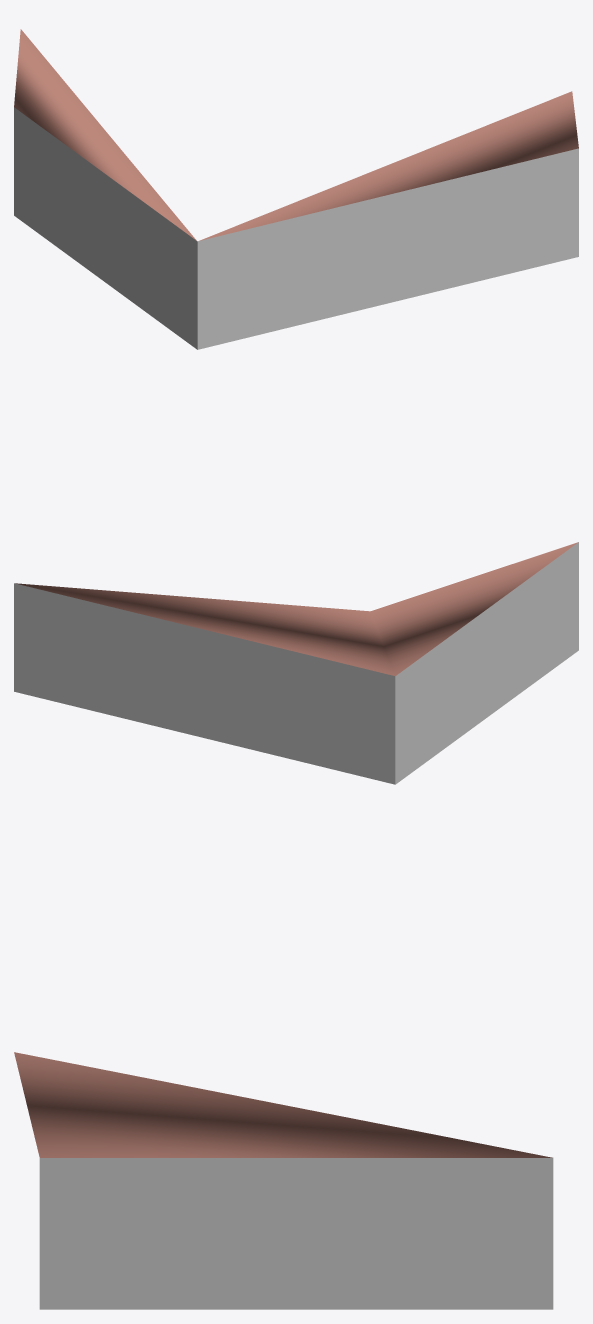
File: brandenburg-generated-latest.glb
3 renders of one model, top to bottom at view 1: azimuth 30°, elevation 25°; view 2: azimuth 150°, elevation 25°; view 3: azimuth 270°, elevation 25°, orthographic. The views are drawn at different scales.
Parts seen in each view (by area): view 1: house; view 2: house; view 3: house.
Part boxes in pixels (<box>): house: <box>14,29,578,349</box>; house: <box>14,542,578,784</box>; house: <box>14,1052,553,1309</box>.
Size of the model in its own units: 14.72 by 6.5 by 13.49.
